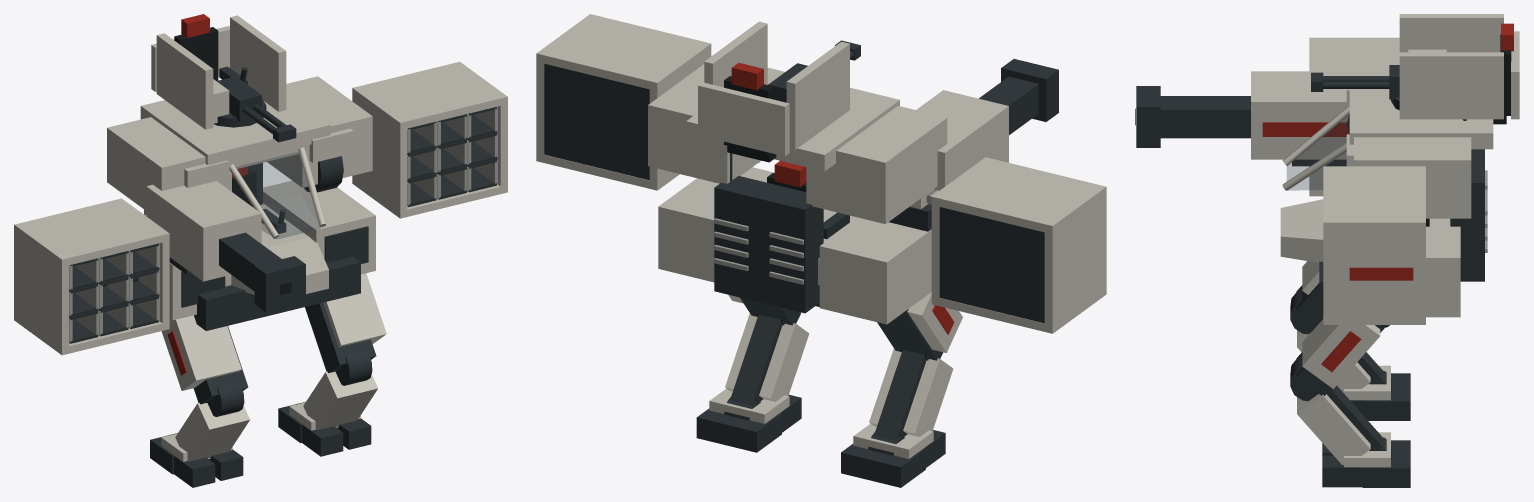
3 views of the same model, side by side, from view 1: azimuth 30°, elevation 25°; view 2: azimuth 150°, elevation 25°; view 3: azimuth 270°, elevation 25° (orthographic). The views are drawn at different scales.
Parts seen in each view (by area): view 1: mech-torso-painted, mech-silo-left-lower-painted, mech-silo-right-painted, mech-cannon-recoil-painted, mech-mg-yaw-roof-painted, mech-hip-0-painted, mech-torso-glazing, mech-hip-1-painted, mech-knee-0-painted, mech-knee-1-painted, mech-ankle-0-painted, mech-ankle-1-painted (+3 smaller); view 2: mech-torso-painted, mech-silo-left-lower-painted, mech-silo-right-painted, mech-mg-yaw-roof-painted, mech-cannon-recoil-painted, mech-knee-0-painted, mech-knee-1-painted, mech-ankle-1-painted, mech-ankle-0-painted, mech-hip-0-painted, mech-seat-gunner-painted, mech-seat-pilot-painted (+3 smaller); view 3: mech-torso-painted, mech-silo-right-painted, mech-cannon-recoil-painted, mech-mg-yaw-roof-painted, mech-knee-1-painted, mech-hip-1-painted, mech-ankle-1-painted, mech-silo-left-lower-painted, mech-ankle-0-painted, mech-torso-glazing, mech-knee-0-painted, mech-mg-pitch-roof-painted (+2 smaller).
Boxes of the visible parts, x1,y1,x2,y2 form: mech-torso-painted: (103, 76, 375, 330); mech-silo-left-lower-painted: (14, 198, 169, 355); mech-silo-right-painted: (352, 61, 507, 218); mech-cannon-recoil-painted: (144, 181, 305, 312); mech-mg-yaw-roof-painted: (151, 15, 286, 129); mech-hip-0-painted: (161, 315, 248, 404); mech-torso-glazing: (233, 152, 320, 239); mech-hip-1-painted: (305, 273, 386, 372); mech-knee-0-painted: (175, 381, 250, 461); mech-knee-1-painted: (303, 350, 377, 430); mech-ankle-0-painted: (150, 433, 243, 487); mech-ankle-1-painted: (278, 402, 371, 456); mech-torso-painted: (648, 64, 947, 324); mech-silo-left-lower-painted: (931, 157, 1106, 333); mech-silo-right-painted: (536, 14, 711, 190); mech-mg-yaw-roof-painted: (698, 21, 849, 156); mech-cannon-recoil-painted: (910, 59, 1058, 208); mech-knee-0-painted: (869, 348, 953, 440); mech-knee-1-painted: (725, 312, 809, 405); mech-ankle-1-painted: (696, 388, 801, 452); mech-ankle-0-painted: (841, 423, 945, 487); mech-hip-0-painted: (877, 292, 962, 360); mech-seat-gunner-painted: (724, 63, 776, 162); mech-seat-pilot-painted: (767, 161, 849, 239); mech-torso-painted: (1280, 50, 1493, 317); mech-silo-right-painted: (1323, 166, 1425, 324); mech-cannon-recoil-painted: (1135, 71, 1348, 159); mech-mg-yaw-roof-painted: (1391, 14, 1519, 119); mech-knee-1-painted: (1290, 356, 1383, 464); mech-hip-1-painted: (1296, 319, 1389, 395); mech-ankle-1-painted: (1322, 432, 1410, 487); mech-silo-left-lower-painted: (1309, 37, 1399, 196); mech-ankle-0-painted: (1344, 365, 1410, 420); mech-torso-glazing: (1287, 112, 1349, 190); mech-knee-0-painted: (1290, 289, 1383, 392); mech-mg-pitch-roof-painted: (1311, 49, 1446, 99).
Bounding box in the file's own units: 37.73 × 30.53 × 25.88.
